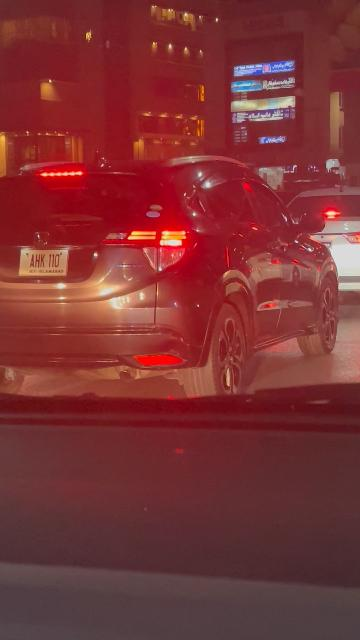plate: (18, 246, 68, 278)
